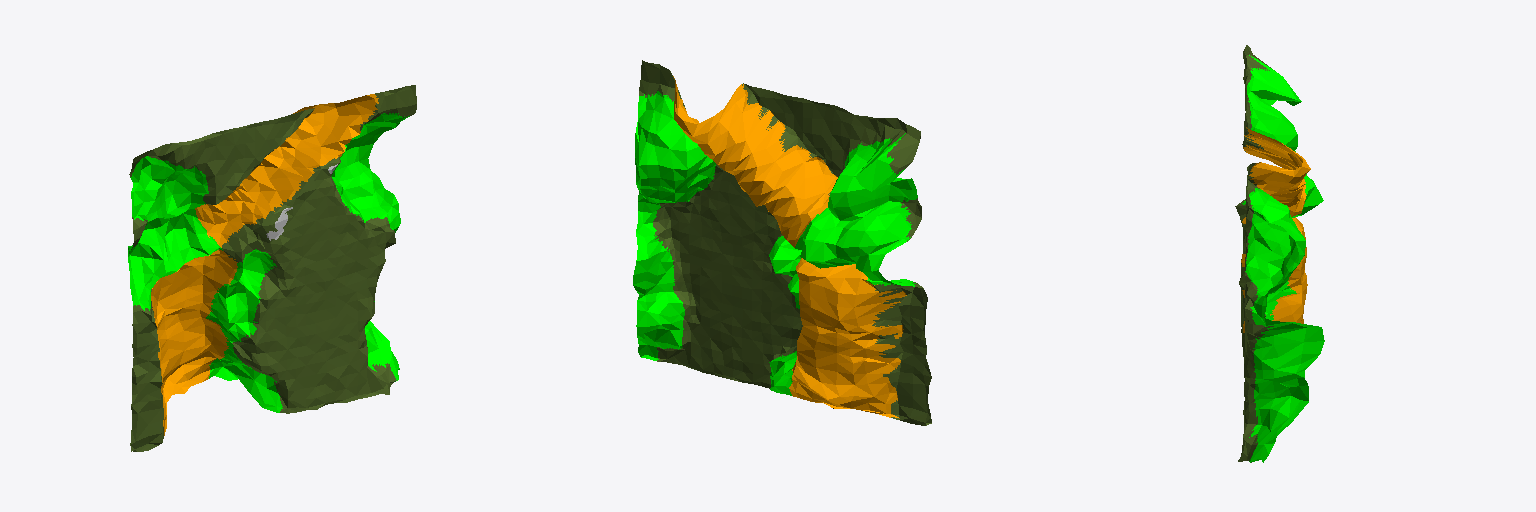
3 renders of one model, left to right at view 1: azimuth 30°, elevation 25°; view 2: azimuth 150°, elevation 25°; view 3: azimuth 270°, elevation 25°, orthographic.
Size of the model in its own units: 74.41 by 74.51 by 19.92.
1 materials, 1 textured.